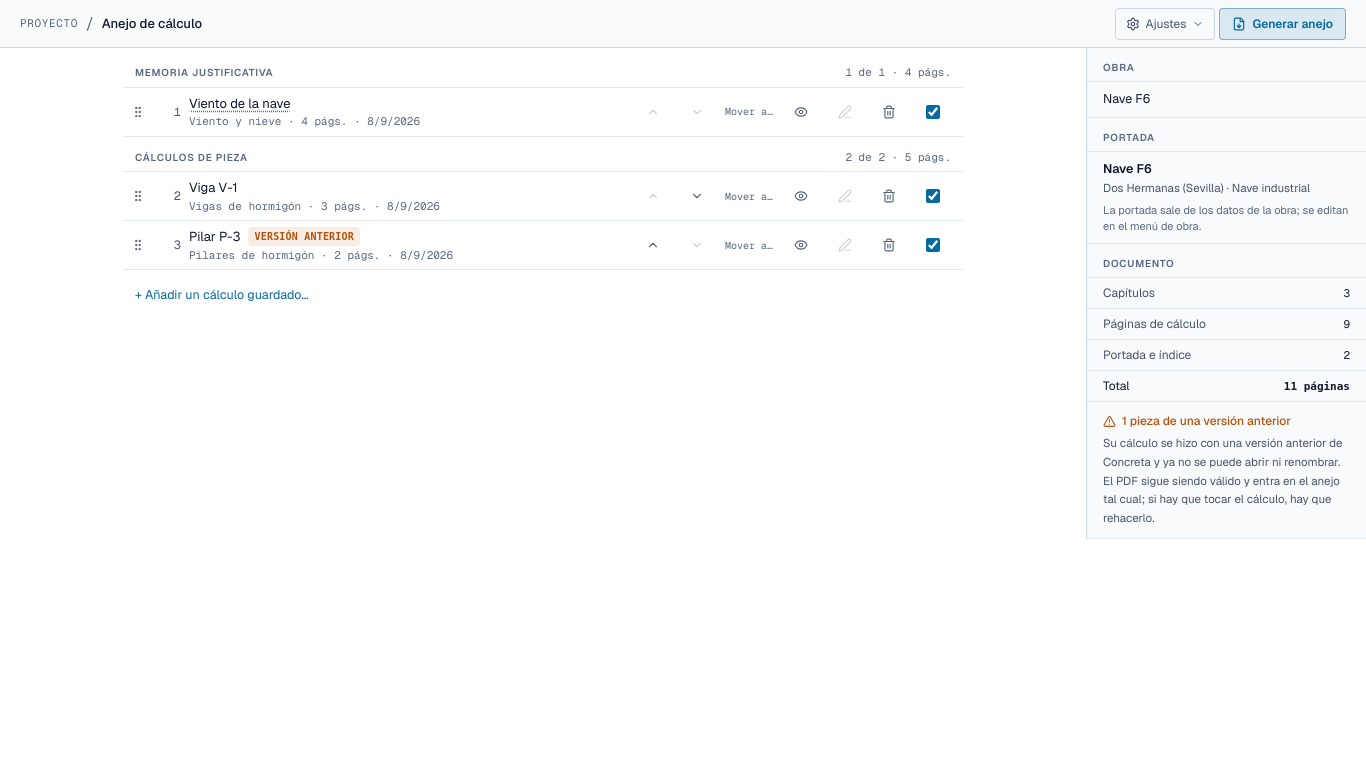
Anejo de cálculo › quitar pide confirmar, y al confirmar la pieza desaparece del índice
Click the button named "Quitar «Pilar P-3» del anejo".
click(889, 245)  # box x1=867 y1=223 x2=911 y2=267
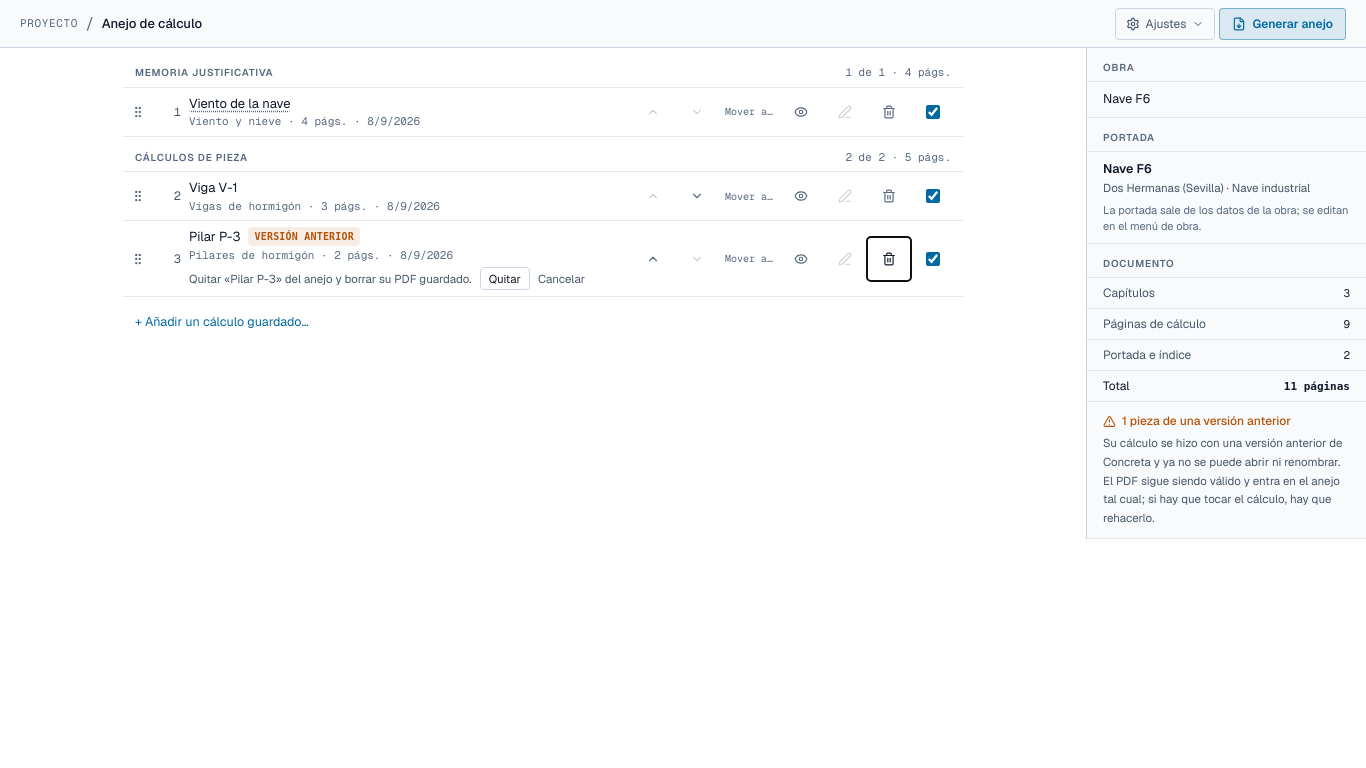
Click the button "Quitar".
click(505, 279)  # box x1=480 y1=267 x2=530 y2=290
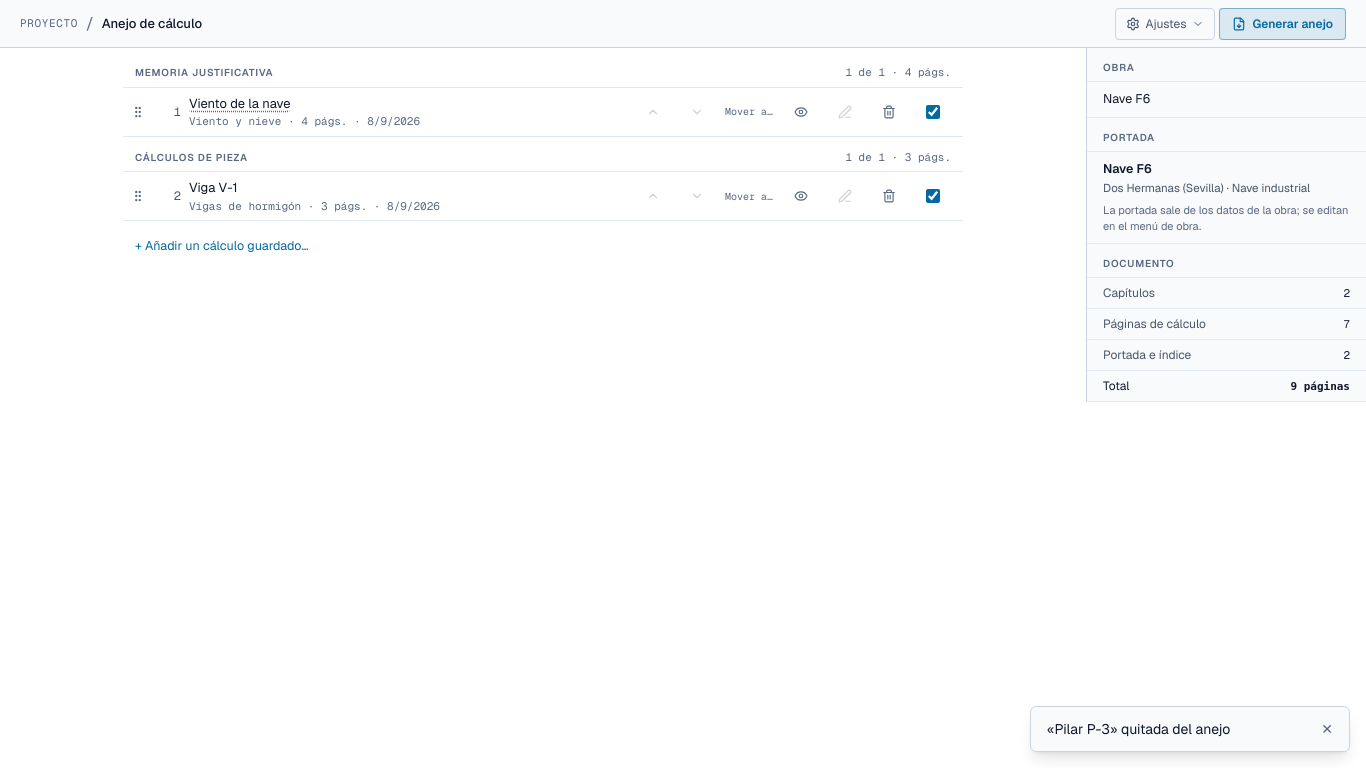
Result: the text "«Pilar P-3» quitada del anejo" is shown 2 times
